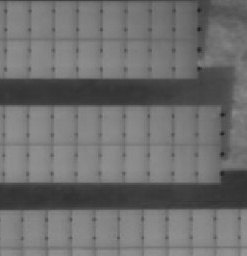solar: (2, 37, 32, 79), (27, 37, 57, 79), (50, 37, 80, 79), (74, 38, 104, 80), (98, 37, 128, 79), (123, 37, 153, 79), (147, 37, 177, 79), (1, 103, 31, 145), (25, 103, 55, 145), (48, 103, 78, 145), (73, 103, 103, 145), (97, 103, 127, 145), (121, 103, 151, 145), (146, 103, 176, 145), (171, 103, 201, 145), (194, 103, 224, 145), (193, 142, 223, 184), (170, 143, 200, 185), (146, 142, 176, 184), (120, 142, 150, 184), (96, 142, 126, 184), (73, 142, 103, 184), (49, 142, 79, 184), (25, 142, 55, 184), (19, 208, 49, 250), (44, 208, 74, 250), (67, 208, 97, 250), (92, 208, 122, 250), (116, 208, 146, 250), (139, 208, 169, 250), (164, 208, 194, 250), (188, 208, 218, 250), (212, 208, 242, 250), (171, 37, 201, 79), (170, 1, 200, 42), (148, 1, 178, 42), (124, 1, 154, 42), (98, 1, 128, 42), (73, 1, 103, 42), (51, 1, 81, 42), (26, 1, 56, 42), (1, 1, 31, 42), (1, 142, 30, 184), (1, 208, 30, 250)
